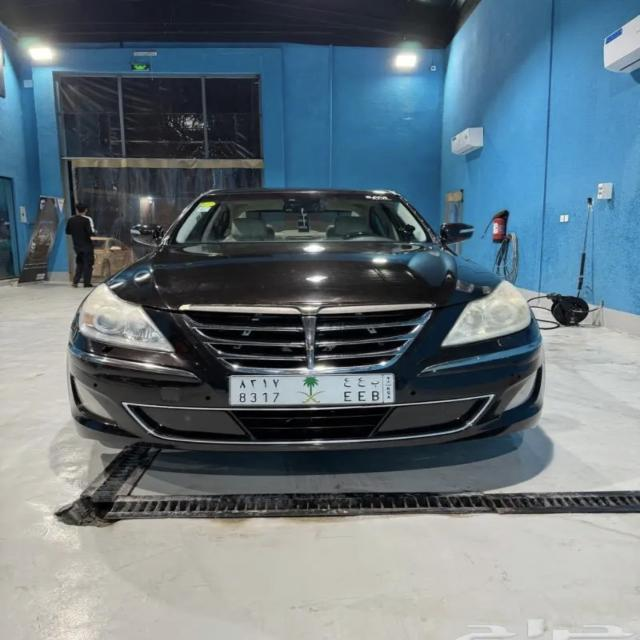license_plate: (230, 374, 394, 404)
